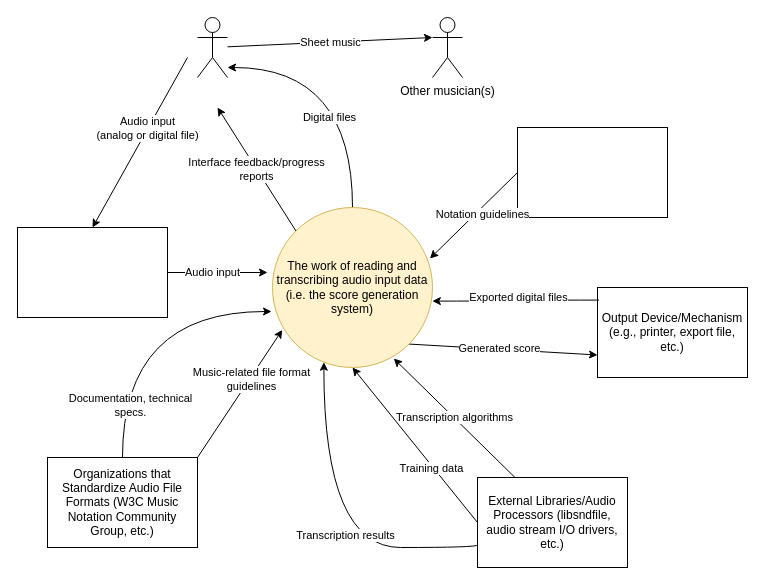
Some shapes in this 765 by 585 pixel diagram are drawn without their labels. The box of each missing label's shape, as (x1, y1, x2, y2) in pixels:
Audio Input Device (e.g., audio interface, microphone, instrument): (16, 226, 168, 318)
Organizations that Standardize Music Theory Notation/Symbols/Rules: (516, 126, 668, 218)
User: (196, 16, 228, 78)
